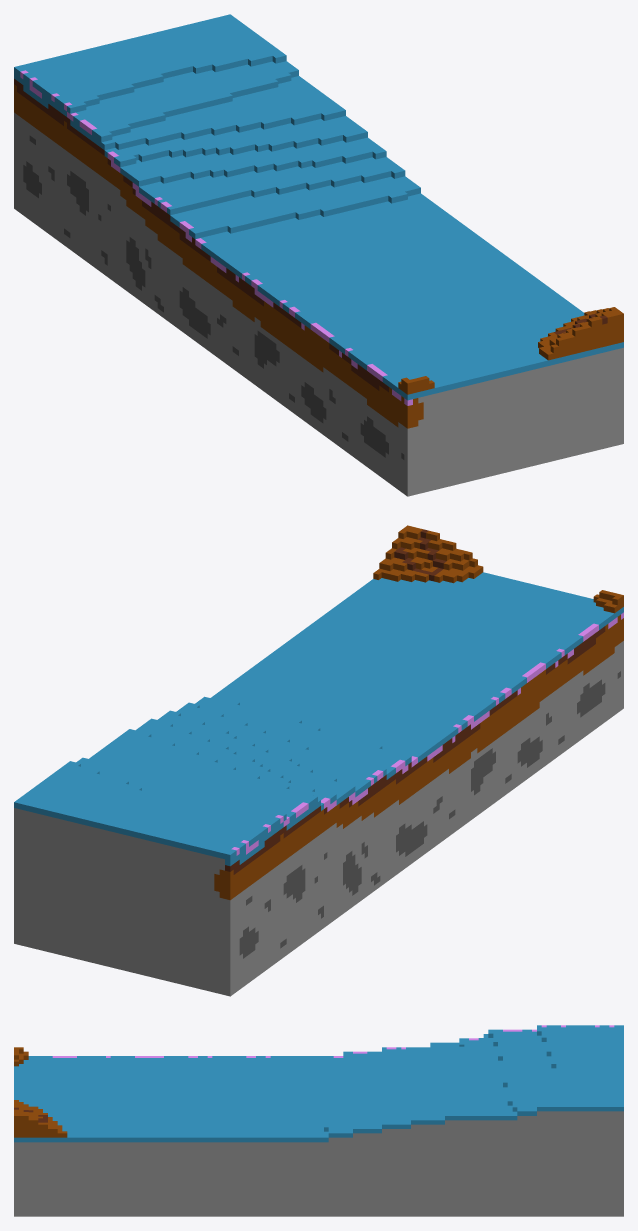
The model's file is Level 1-5.obj.
3 views of the same model, one above another, from view 1: azimuth 30°, elevation 25°; view 2: azimuth 150°, elevation 25°; view 3: azimuth 270°, elevation 25° (orthographic). The views are drawn at different scales.
Visible parts, largest first — view 1: default; view 2: default; view 3: default.
Boxes of the visible parts, x1,y1,x2,y2 form: default: [14, 14, 623, 496]; default: [14, 525, 623, 996]; default: [14, 1025, 623, 1216].
Bounding box in the file's own units: 40 × 25 × 126.
